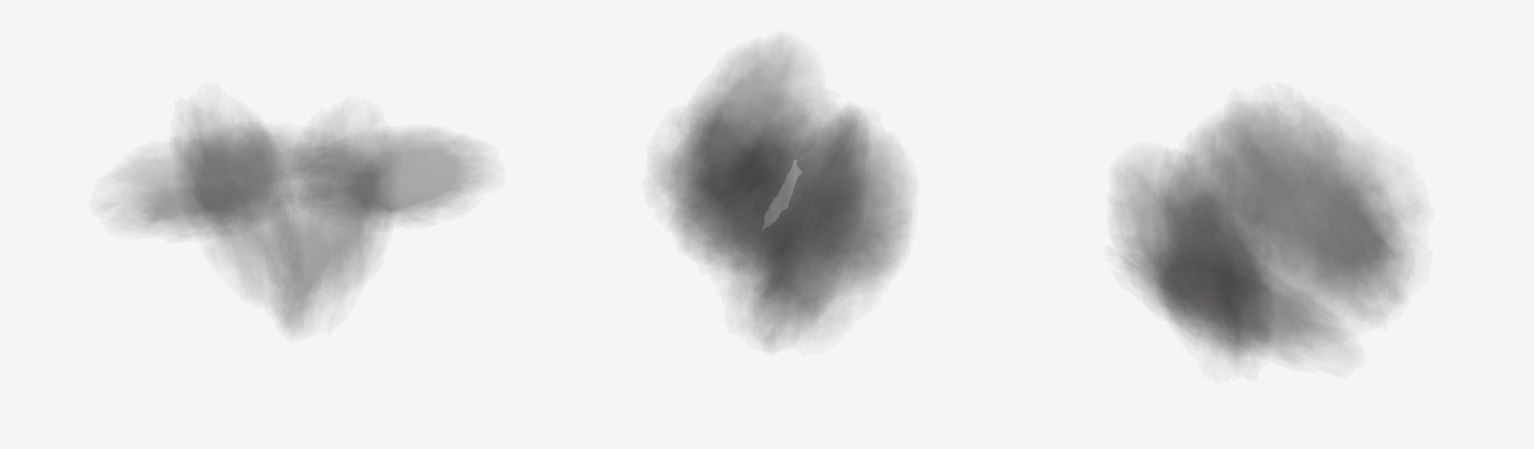
Rendered from smoke_puff.glb.
3 renders of one model, left to right at view 1: azimuth 30°, elevation 25°; view 2: azimuth 150°, elevation 25°; view 3: azimuth 270°, elevation 25°, orthographic. The views are drawn at different scales.
Bounding box in the file's own units: 4.16 × 3.46 × 3.94.
1 material, 1 textured.
